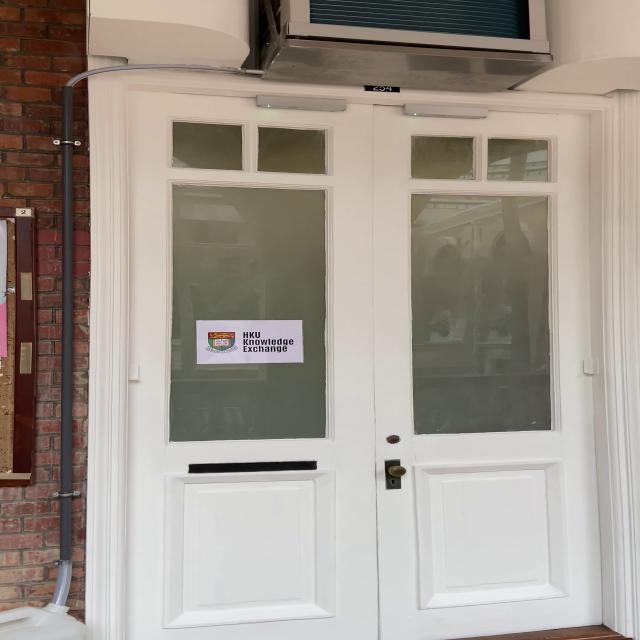room254: (361, 85, 400, 92)
